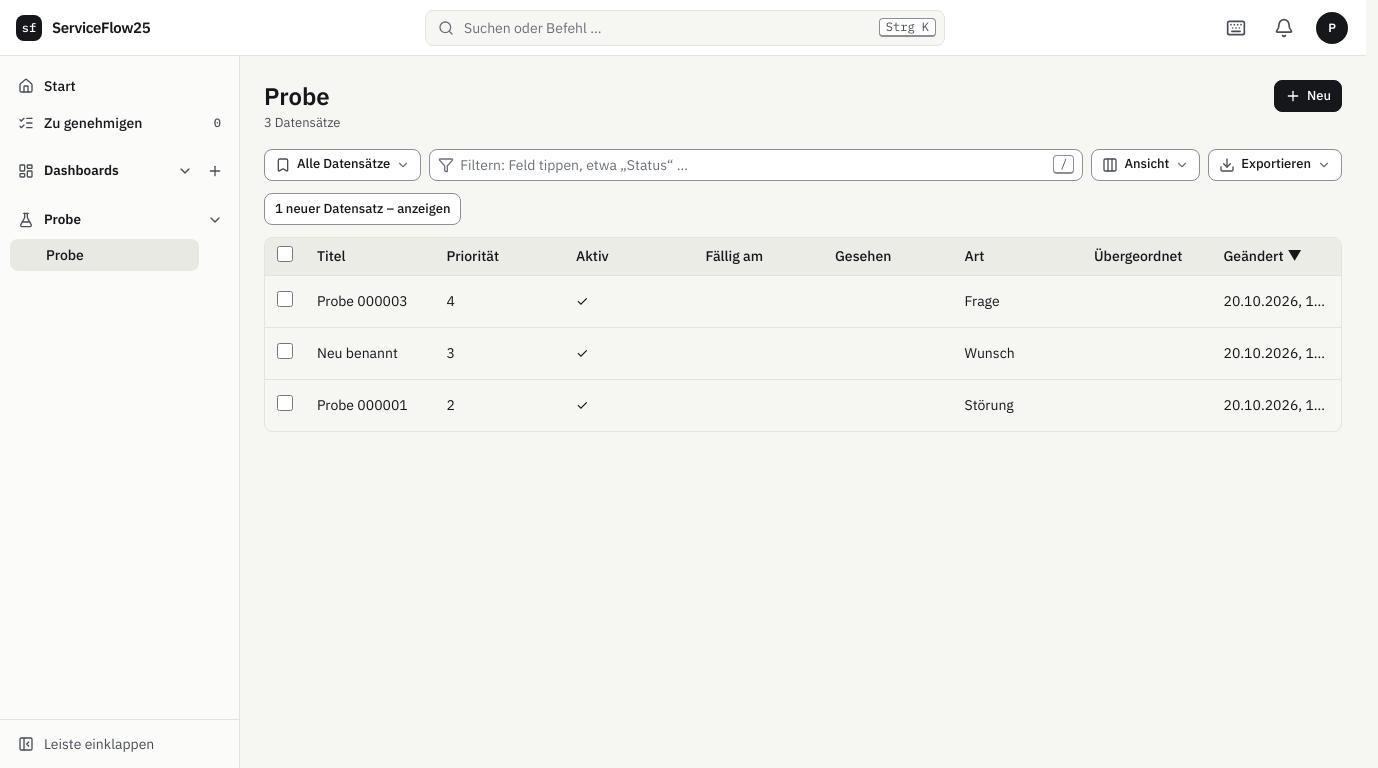
Live › takes a changed row into the list and notes new records
The width and height of the screenshot is (1378, 768).
Check: the text "3 Datensätze" is shown, box x1=264 y1=114 x2=340 y2=133
Check: the text "Neu benannt" is shown, box x1=305 y1=343 x2=434 y2=363
Click the button "1 neuer Datensatz – anzeigen" at (363, 209), box x1=264 y1=193 x2=461 y2=225
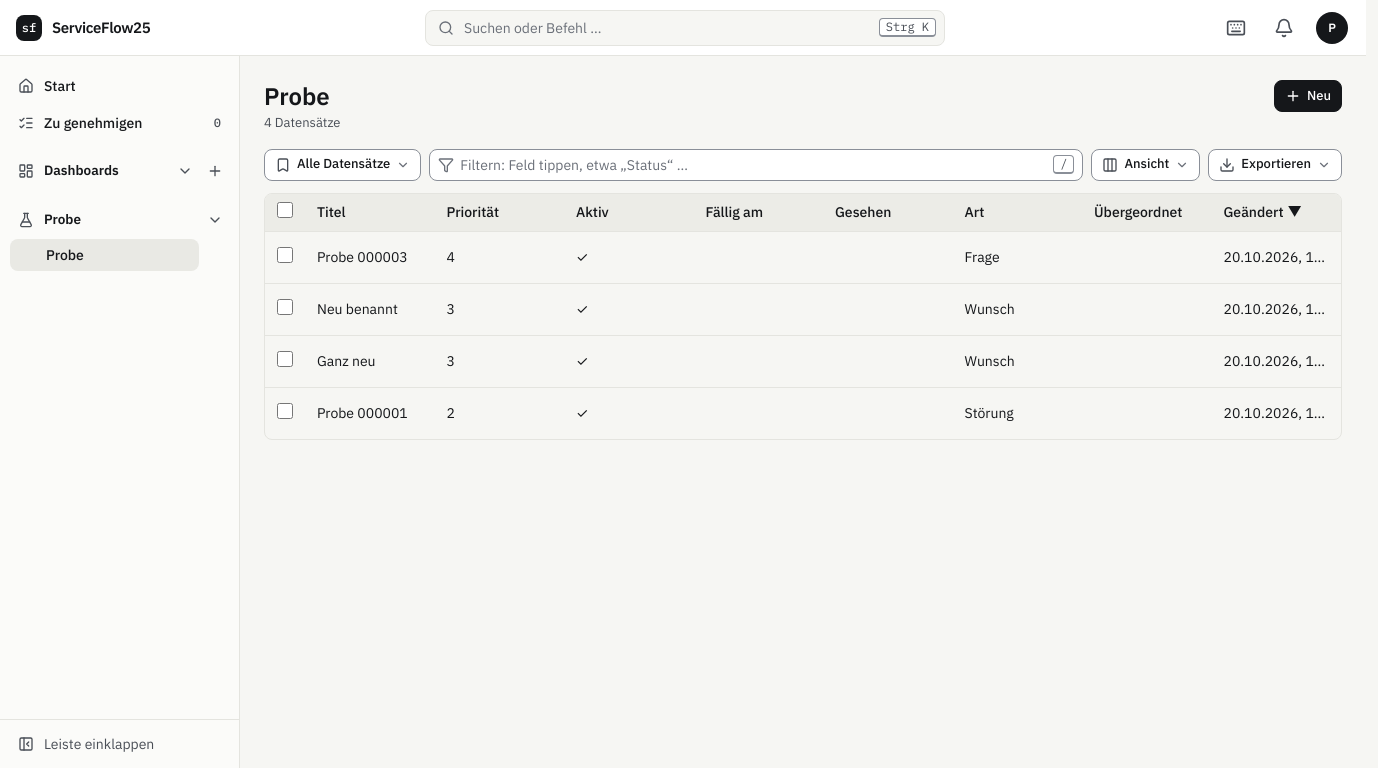
Check: the text "Ganz neu" is shown, box x1=305 y1=351 x2=434 y2=371
